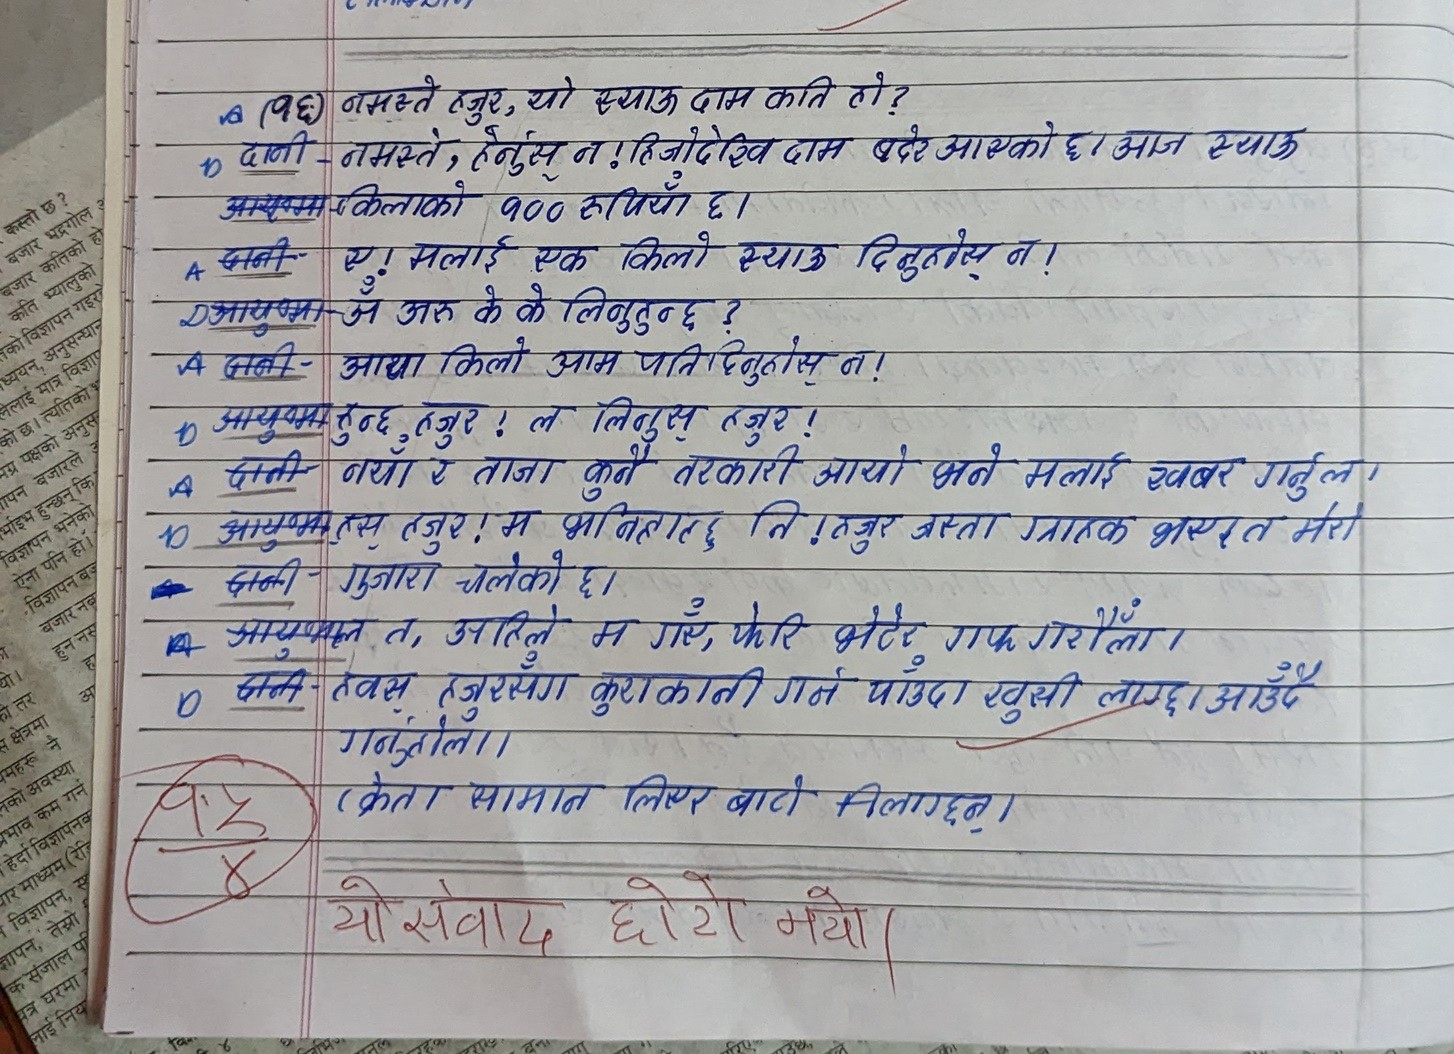text: (403, 875, 562, 963), (594, 863, 745, 945), (583, 655, 761, 717), (1024, 591, 1173, 658), (853, 216, 992, 286), (338, 714, 515, 768), (768, 876, 878, 960), (631, 339, 823, 386), (561, 281, 716, 334), (1200, 656, 1321, 723), (1255, 441, 1389, 502), (433, 649, 570, 708), (976, 658, 1085, 731), (552, 501, 717, 548), (881, 780, 1015, 837), (151, 771, 273, 833), (665, 441, 800, 491), (222, 611, 363, 657), (629, 123, 773, 168), (577, 170, 695, 223), (1017, 501, 1132, 555), (937, 115, 1057, 167), (321, 872, 393, 958), (861, 655, 967, 711), (465, 773, 596, 818), (345, 765, 446, 824), (1150, 508, 1275, 555), (823, 601, 931, 653), (1018, 445, 1131, 494), (588, 390, 701, 439), (208, 503, 329, 548), (445, 600, 561, 647), (1095, 671, 1193, 724), (457, 550, 567, 597), (198, 295, 329, 334), (1201, 118, 1304, 168), (814, 442, 911, 494), (336, 178, 467, 217), (910, 500, 1004, 553), (335, 557, 443, 604), (1291, 500, 1377, 557), (615, 766, 711, 817), (326, 665, 420, 717), (408, 230, 513, 276), (470, 128, 563, 178), (338, 77, 440, 123), (1109, 113, 1194, 167), (733, 230, 831, 276), (925, 436, 1008, 490), (409, 393, 487, 450), (199, 399, 326, 434), (212, 556, 304, 605), (338, 128, 443, 169), (719, 770, 807, 819), (727, 598, 805, 653), (226, 664, 310, 714), (826, 503, 905, 557), (580, 440, 651, 500), (207, 234, 300, 279), (717, 388, 795, 442), (436, 335, 526, 381), (473, 445, 561, 492), (646, 592, 712, 655), (595, 73, 682, 121), (335, 339, 430, 381), (620, 230, 713, 271), (395, 506, 471, 554), (1142, 453, 1237, 491), (220, 339, 300, 384), (943, 613, 1018, 660), (238, 128, 308, 178), (542, 337, 625, 379), (329, 395, 393, 447), (342, 445, 418, 489), (776, 665, 848, 708), (254, 84, 317, 132), (329, 501, 387, 552), (397, 283, 459, 331), (783, 125, 848, 170), (210, 453, 301, 484), (216, 843, 259, 910), (492, 188, 568, 223), (746, 494, 798, 545), (764, 74, 834, 112), (452, 80, 505, 129), (870, 121, 930, 163), (527, 235, 592, 271), (522, 67, 572, 112), (468, 280, 513, 330), (848, 70, 895, 113), (517, 276, 553, 332), (689, 88, 755, 117), (422, 446, 461, 497), (588, 611, 636, 651), (1065, 122, 1098, 178), (522, 403, 578, 437), (344, 278, 380, 330), (567, 129, 610, 172), (699, 177, 738, 223), (837, 339, 875, 383), (500, 504, 540, 541), (380, 611, 419, 647), (333, 238, 375, 271), (575, 554, 603, 600), (1001, 232, 1036, 270)
